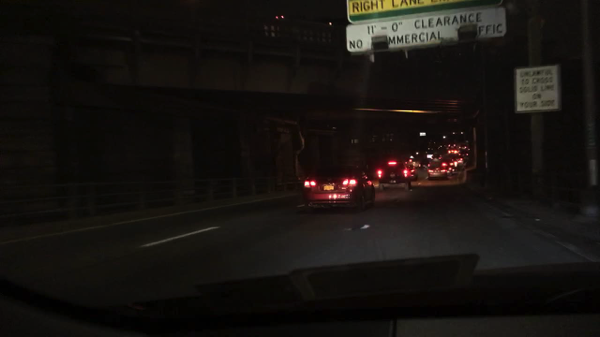car: (301, 164, 375, 213), (376, 160, 411, 191), (425, 160, 449, 180), (404, 162, 418, 181), (406, 155, 423, 168), (440, 162, 456, 175), (448, 158, 458, 173), (418, 158, 431, 169), (459, 150, 470, 162), (456, 158, 466, 168), (446, 147, 458, 155), (432, 153, 441, 159), (447, 142, 455, 148), (459, 144, 468, 149)
traffic sign: (345, 8, 505, 57), (345, 1, 502, 23), (513, 65, 561, 114)
truck: (261, 15, 333, 47)
